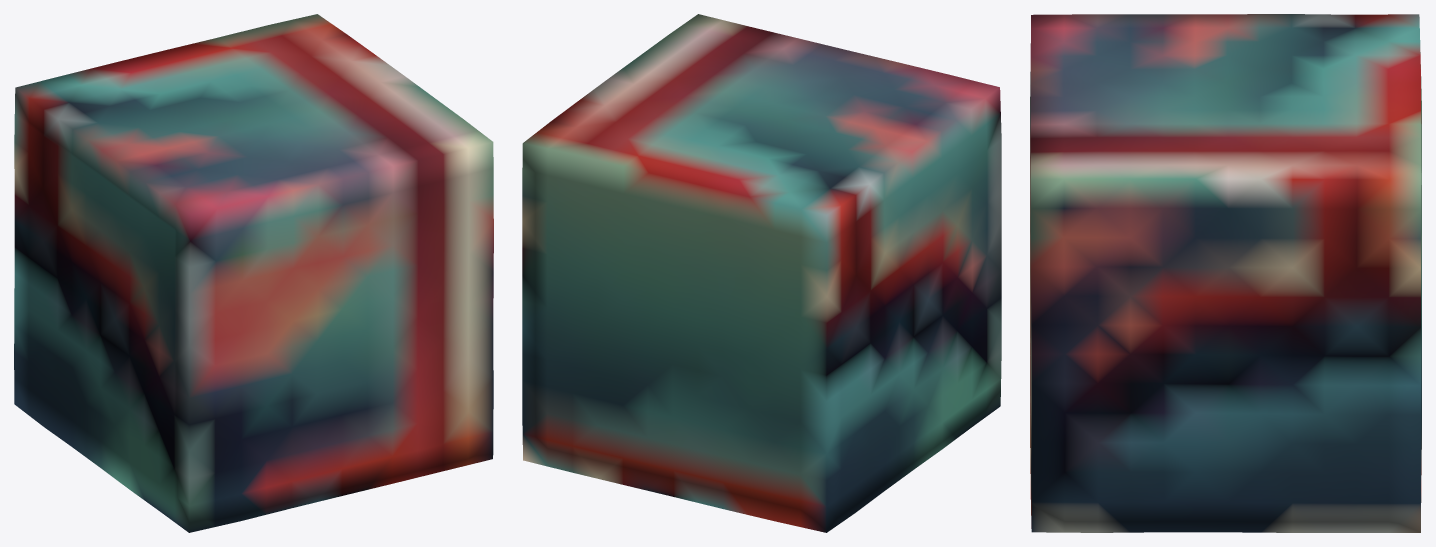
The model's file is kanban.glb.
3 views of the same model, side by side, from view 1: azimuth 30°, elevation 25°; view 2: azimuth 150°, elevation 25°; view 3: azimuth 270°, elevation 25° (orthographic). The views are drawn at different scales.
Visible parts, largest first — view 1: ボックス; view 2: ボックス; view 3: ボックス.
Boxes of the visible parts, box(x1,y1,x2,y2) form: ボックス: box(14, 14, 493, 532); ボックス: box(522, 14, 1001, 532); ボックス: box(1030, 14, 1421, 532).
Size of the model in its own units: 1 by 1 by 1.
